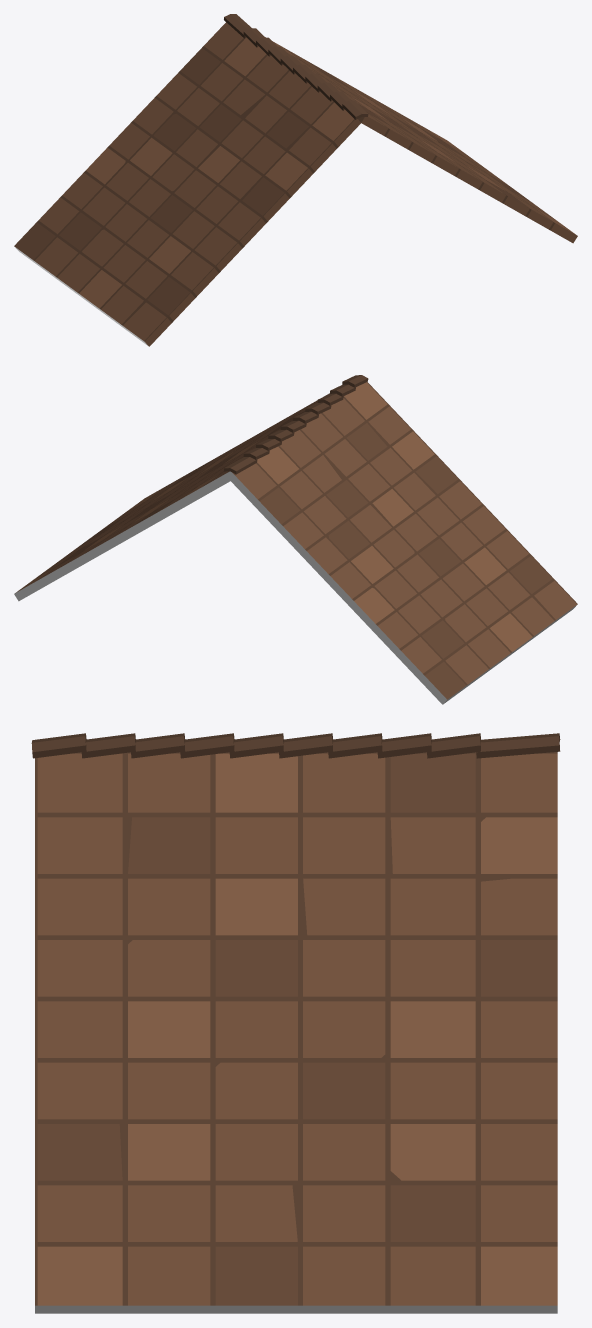
Rendered from Roof1_C9_03.fbx.
The picture shows the model from 3 angles, top to bottom: view 1: azimuth 30°, elevation 25°; view 2: azimuth 150°, elevation 25°; view 3: azimuth 270°, elevation 25°; orthographic projection. The views are drawn at different scales.
Visible parts, largest first — view 1: Roof1_C9_03; view 2: Roof1_C9_03; view 3: Roof1_C9_03.
Part boxes in pixels (x1=…): Roof1_C9_03: x1=14, y1=14, x2=577, y2=346; Roof1_C9_03: x1=14, y1=375, x2=577, y2=704; Roof1_C9_03: x1=31, y1=733, x2=560, y2=1313.
Bounding box in the file's own units: 565 × 231 × 298.
